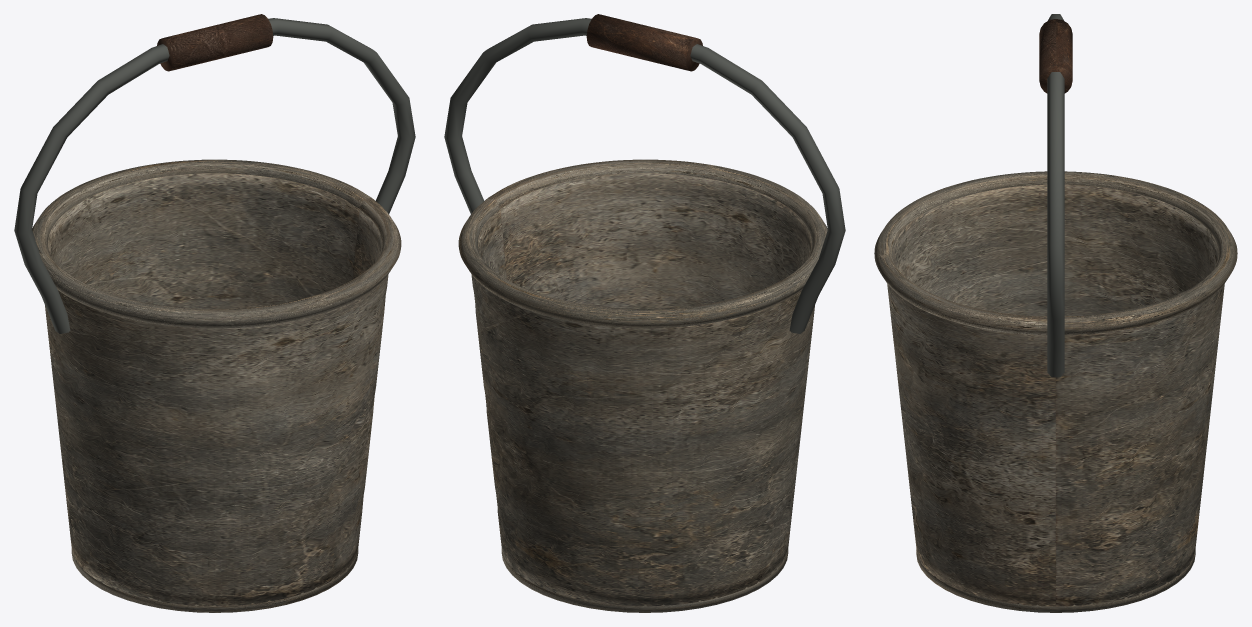
Rendered from thimble_bucket.glb.
The picture shows the model from 3 angles, left to right: view 1: azimuth 30°, elevation 25°; view 2: azimuth 150°, elevation 25°; view 3: azimuth 270°, elevation 25°; orthographic projection. The views are drawn at different scales.
Parts seen in each view (by area): view 1: thimble_bucket_mesh; view 2: thimble_bucket_mesh; view 3: thimble_bucket_mesh.
Part boxes in pixels (bbox=[...]): thimble_bucket_mesh: bbox=[14, 14, 415, 612]; thimble_bucket_mesh: bbox=[444, 14, 845, 612]; thimble_bucket_mesh: bbox=[874, 14, 1237, 612].
Bounding box in the file's own units: 0.5657 × 0.715 × 0.46.
3 materials, 2 textured.
